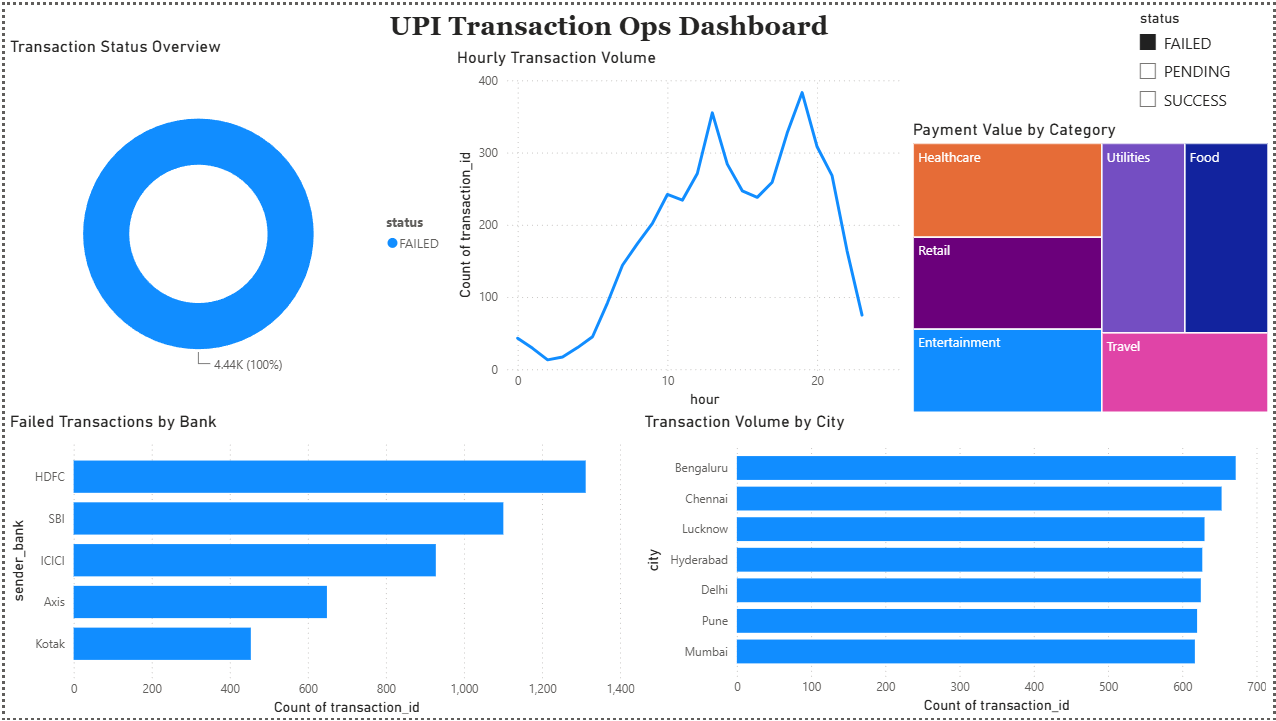

Layout of this report page (visuals, bound fields, positions):
{"tool":"powerbi","page":{"name":"Page 1","canvas":[1280,720],"ordinal":0},"visuals":[{"type":"donutChart","title":"Transaction Status Overview","fields":{"Category":["upi_transactions_final.status"],"Y":["CountNonNull(upi_transactions_final.transaction_id)"]},"box":[0,31.8,453,378.8],"z":0},{"type":"clusteredBarChart","title":"Failed Transactions by Bank","fields":{"Category":["upi_transactions_final.sender_bank"],"Y":["CountNonNull(upi_transactions_final.transaction_id)"]},"box":[0,410.6,640.9,310.6],"z":1},{"type":"lineChart","title":"Hourly Transaction Volume","fields":{"Category":["upi_transactions_final.hour"],"Y":["CountNonNull(upi_transactions_final.transaction_id)"]},"box":[451.5,42.4,459.1,368.2],"z":2},{"type":"treemap","title":"Payment Value by Category","fields":{"Group":["upi_transactions_final.merchant_category"],"Values":["Sum(upi_transactions_final.amount)"]},"box":[912.1,115.2,368.2,306.1],"z":4},{"type":"clusteredBarChart","title":"Transaction Volume by City","fields":{"Category":["upi_transactions_final.city"],"Y":["CountNonNull(upi_transactions_final.transaction_id)"]},"box":[640.9,410.6,637.9,309.1],"z":5},{"type":"textbox","box":[383.3,0,462.1,42.4],"z":6},{"type":"slicer","fields":{"Values":["upi_transactions_final.status"]},"box":[1133.3,0,147,115.2],"z":7}]}

Visuals, with their boxes in screenshot pixels (x1, y1, x2, y2), scaled from the page's 1280x720 canvas onto the 1276x721 screenshot:
"Transaction Status Overview" donutChart: {"left": 0, "top": 32, "right": 452, "bottom": 411}
"Failed Transactions by Bank" clusteredBarChart: {"left": 0, "top": 411, "right": 639, "bottom": 720}
"Hourly Transaction Volume" lineChart: {"left": 450, "top": 42, "right": 908, "bottom": 411}
"Payment Value by Category" treemap: {"left": 909, "top": 115, "right": 1275, "bottom": 422}
"Transaction Volume by City" clusteredBarChart: {"left": 639, "top": 411, "right": 1275, "bottom": 720}
textbox: {"left": 382, "top": 0, "right": 843, "bottom": 42}
slicer - upi_transactions_final.status: {"left": 1130, "top": 0, "right": 1275, "bottom": 115}
